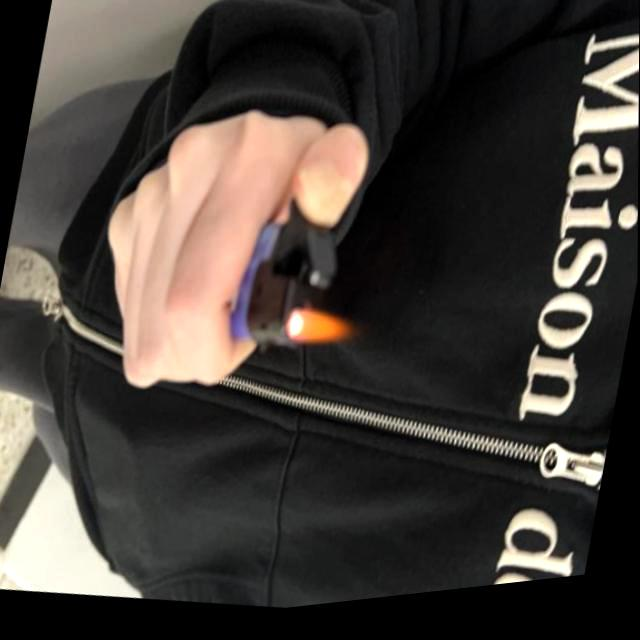fire: (281, 304, 363, 366)
